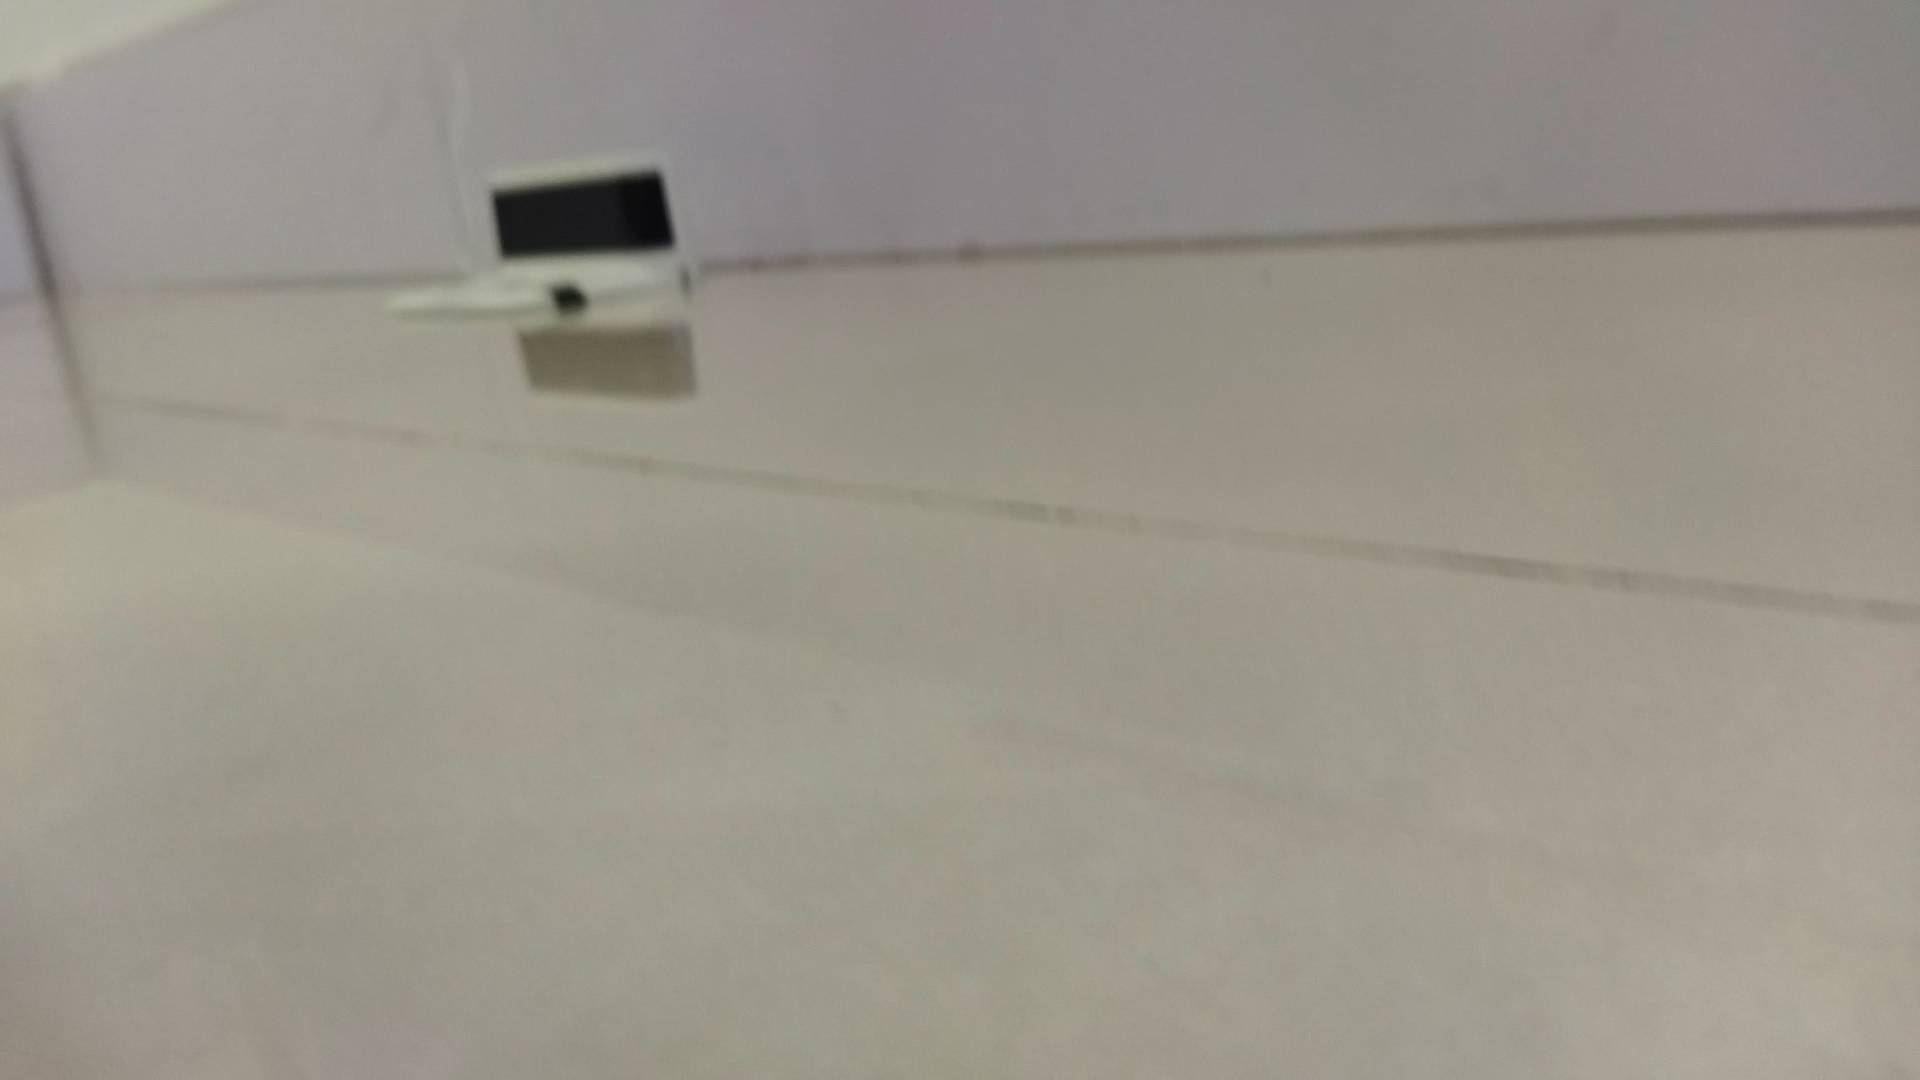recharge seat: (388, 148, 698, 320)
